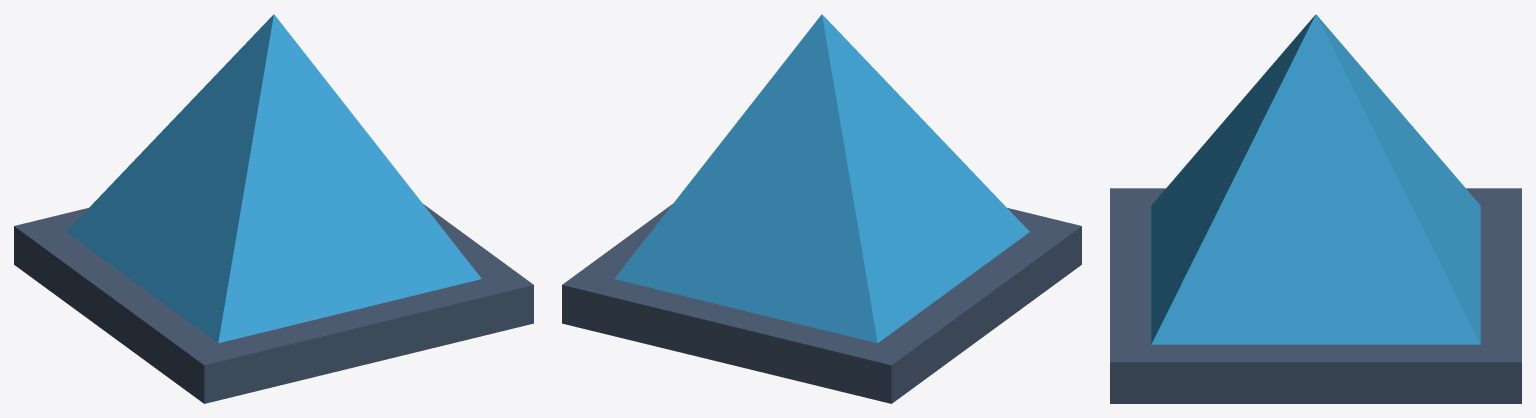
File: orbiting-pyramid.gltf
3 renders of one model, left to right at view 1: azimuth 30°, elevation 25°; view 2: azimuth 150°, elevation 25°; view 3: azimuth 270°, elevation 25°, orthographic. The views are drawn at different scales.
Visible parts, largest first — view 1: Pyramid, Plinth; view 2: Pyramid, Plinth; view 3: Pyramid, Plinth.
Part boxes in pixels (<box>): Pyramid: <box>66,14,481,343</box>; Plinth: <box>14,204,533,403</box>; Pyramid: <box>614,14,1029,343</box>; Plinth: <box>562,204,1081,403</box>; Pyramid: <box>1151,14,1480,344</box>; Plinth: <box>1110,188,1521,403</box>.
Size of the model in its own units: 2.5 by 2.03 by 2.5.
